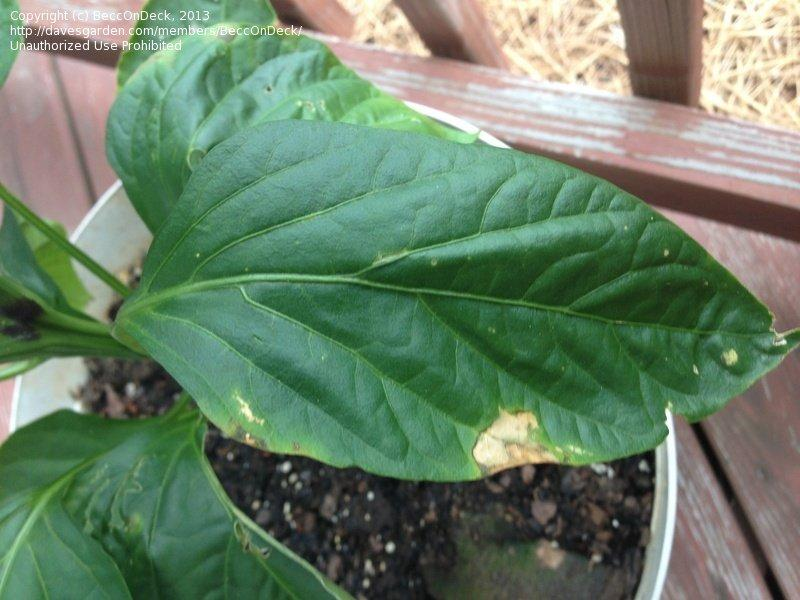Bell_pepper leaf spot: (143, 88, 800, 368)
